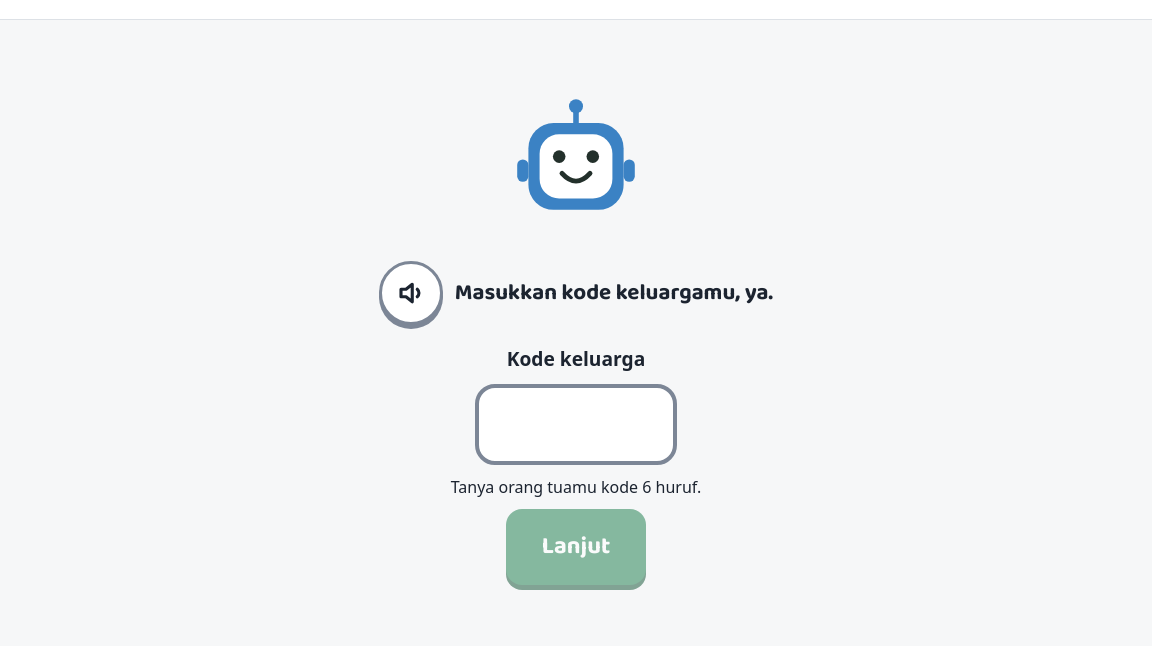
Test case: halaman anak › sandi keliru menampilkan pesan ramah tanpa kata salah
The image size is (1152, 646).
In the field labelled "Kode keluarga": (576, 424) [475,384,677,465], type "RWJUVF"
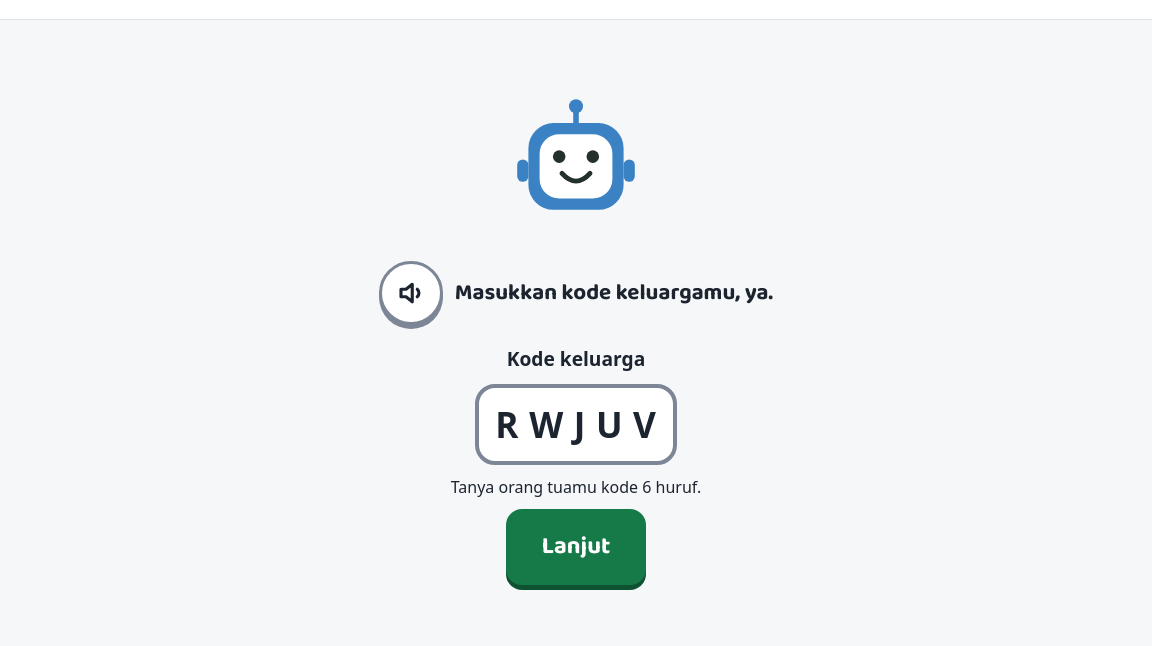
Click the button "Lanjut": (576, 547) [506,509,646,585]
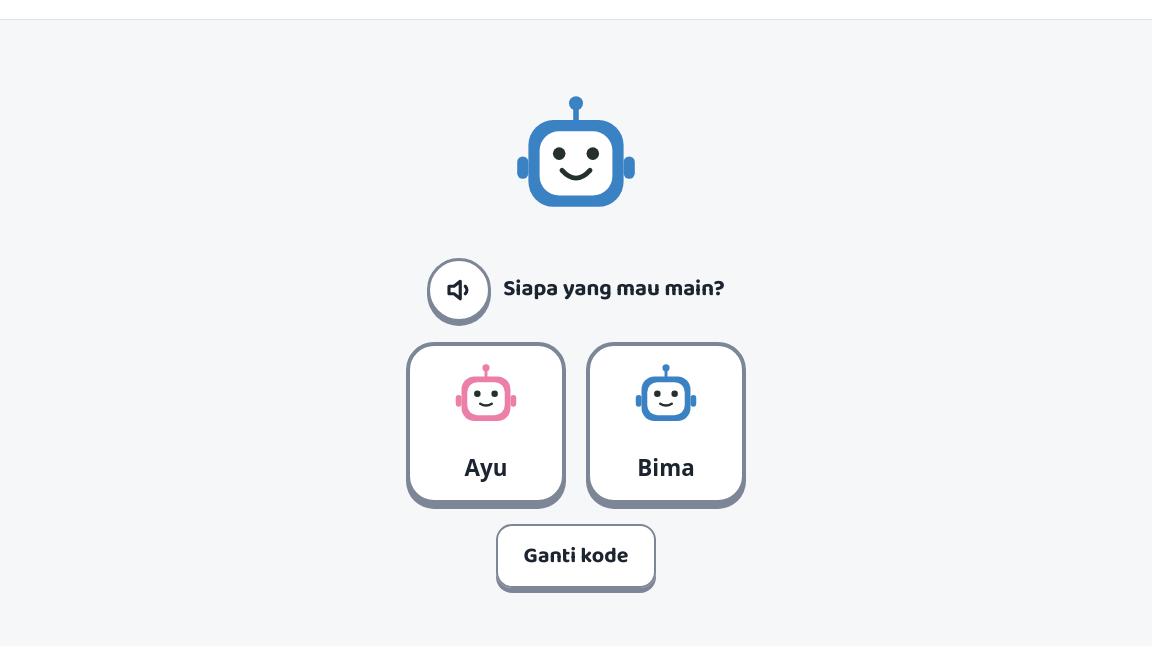
Click the button "Ayu": (486, 423) [406,342,566,504]
(page scrolled)
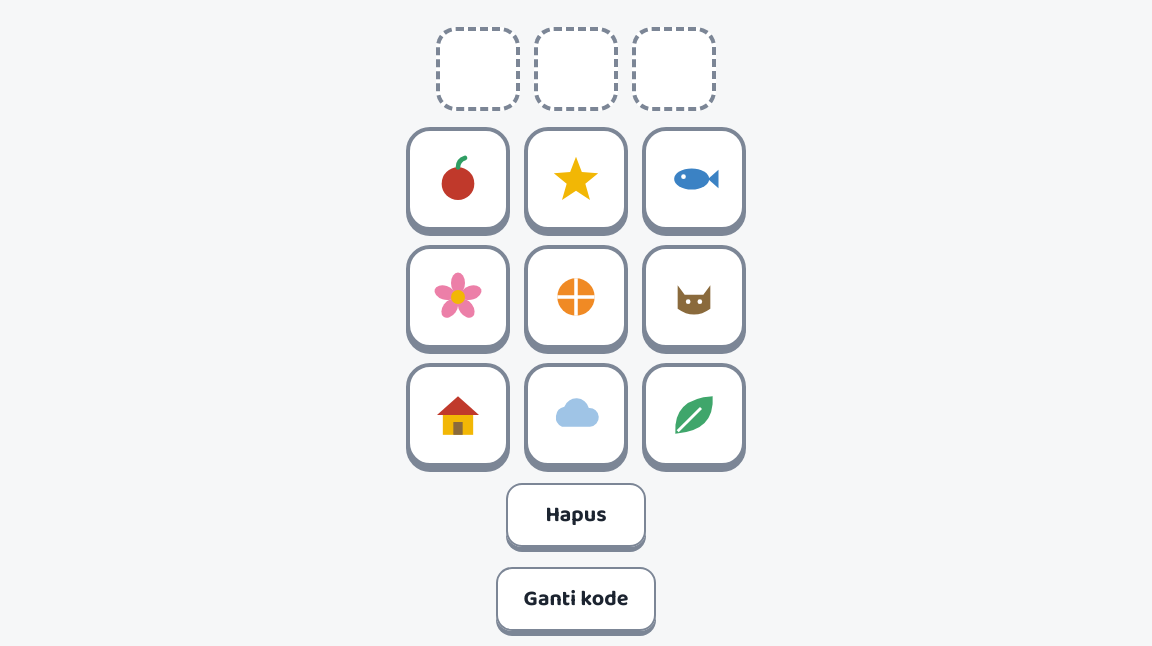
Click the button named "Kucing": (694, 297) [642,245,746,349]
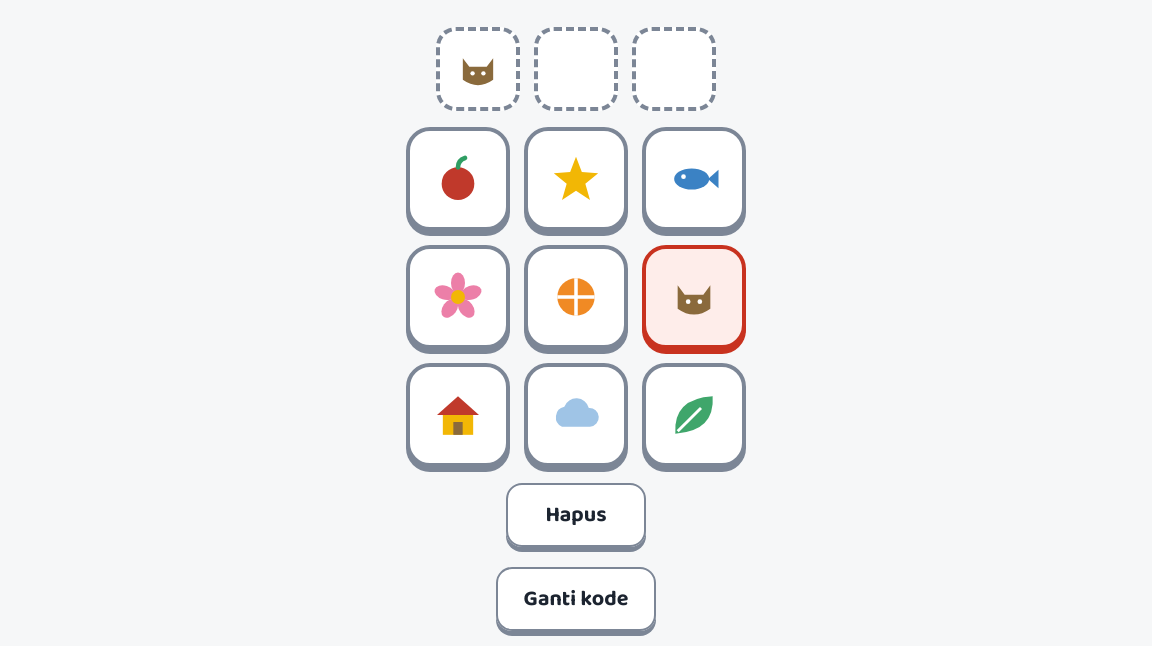
Click the button named "Rumah": (458, 415) [406,363,510,467]
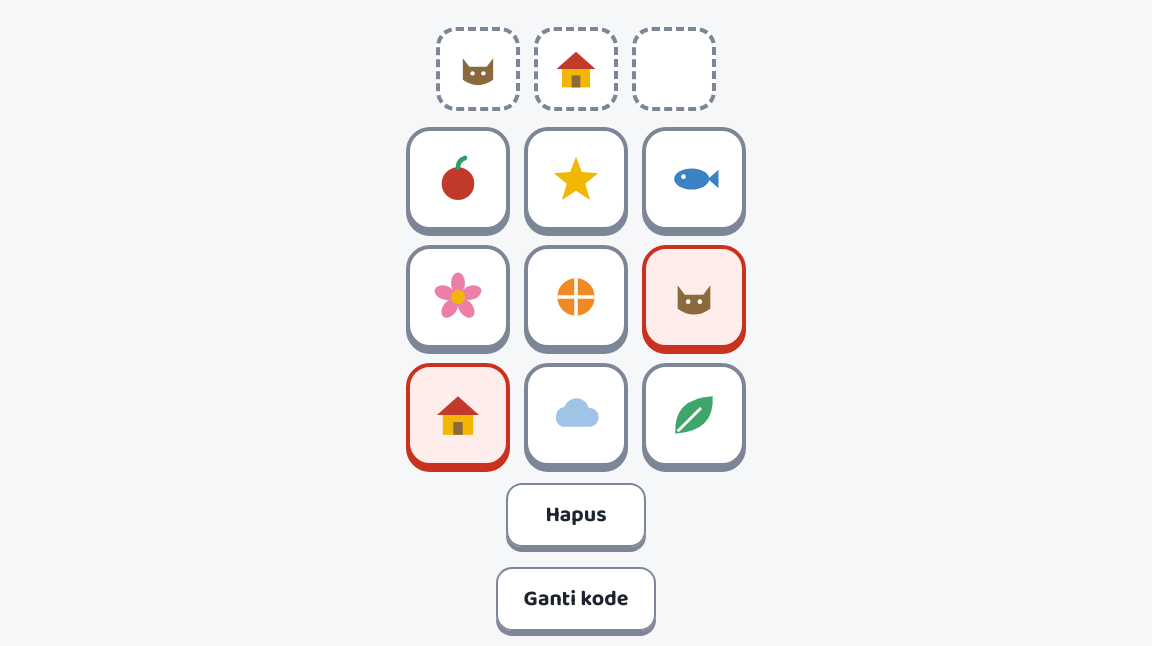
Click the button named "Awan": (576, 415) [524,363,628,467]
(page scrolled)
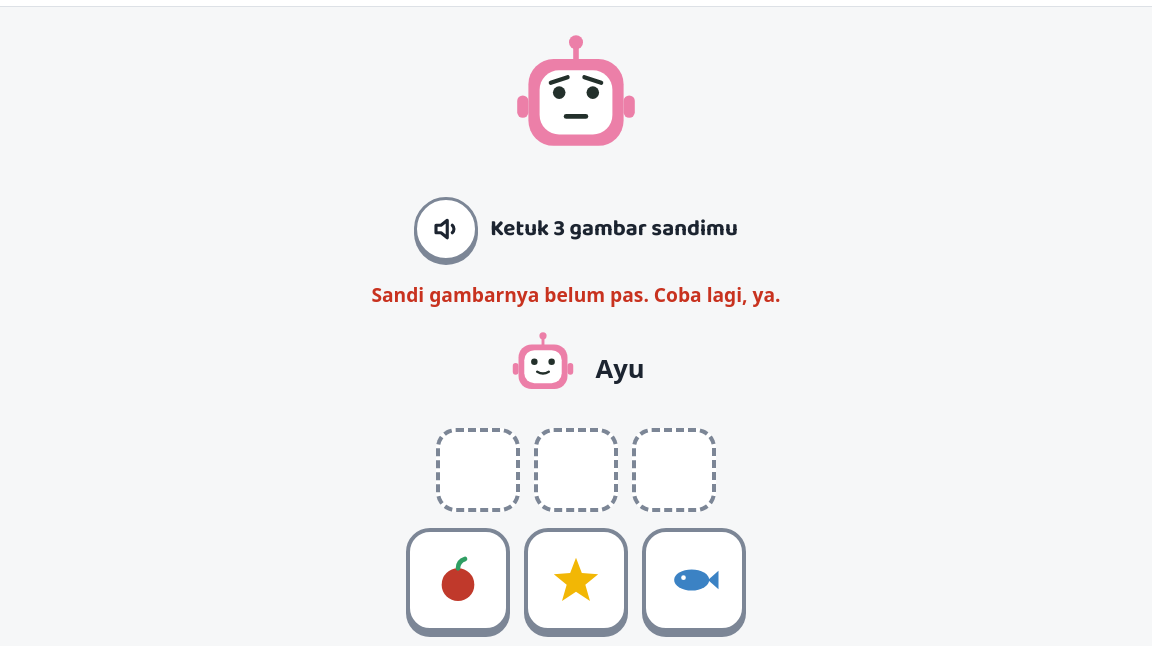
Expected: the message shows "belum pas", [372,281,781,308]
